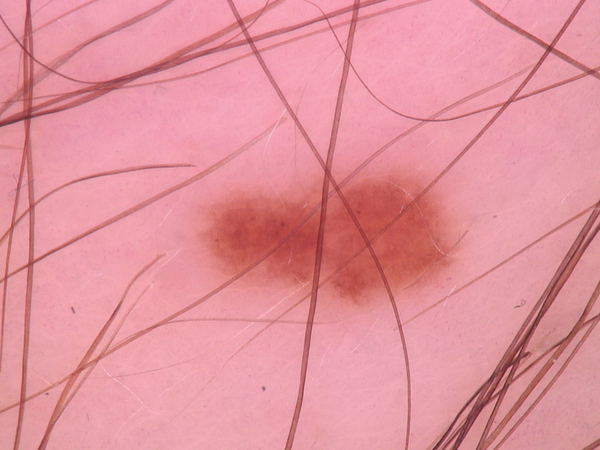Detected Lesion: (190, 167, 456, 309)
